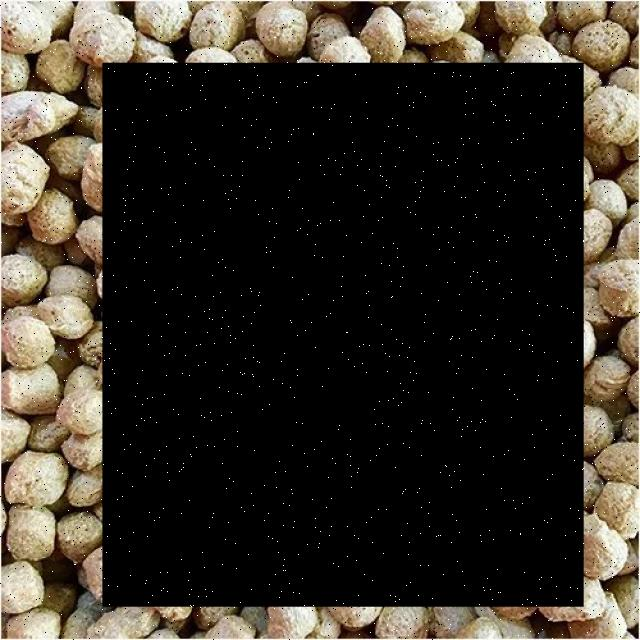Nutrela: (102, 63, 584, 607)
